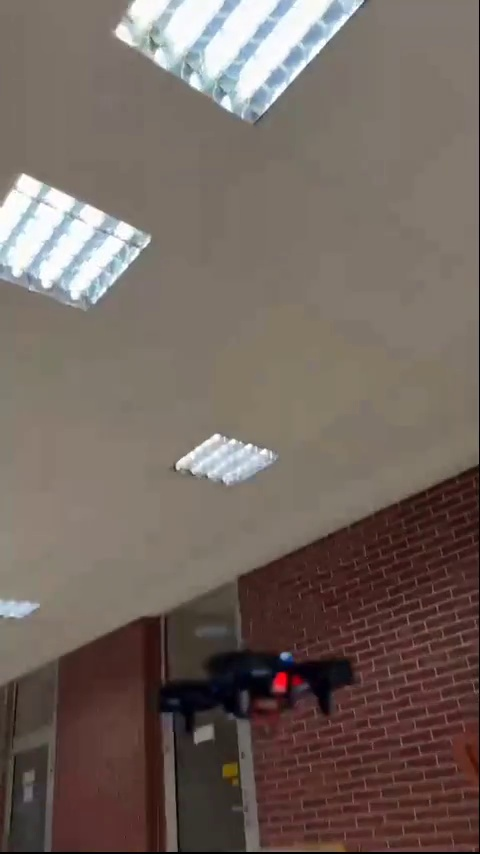drone: (163, 655, 352, 736)
